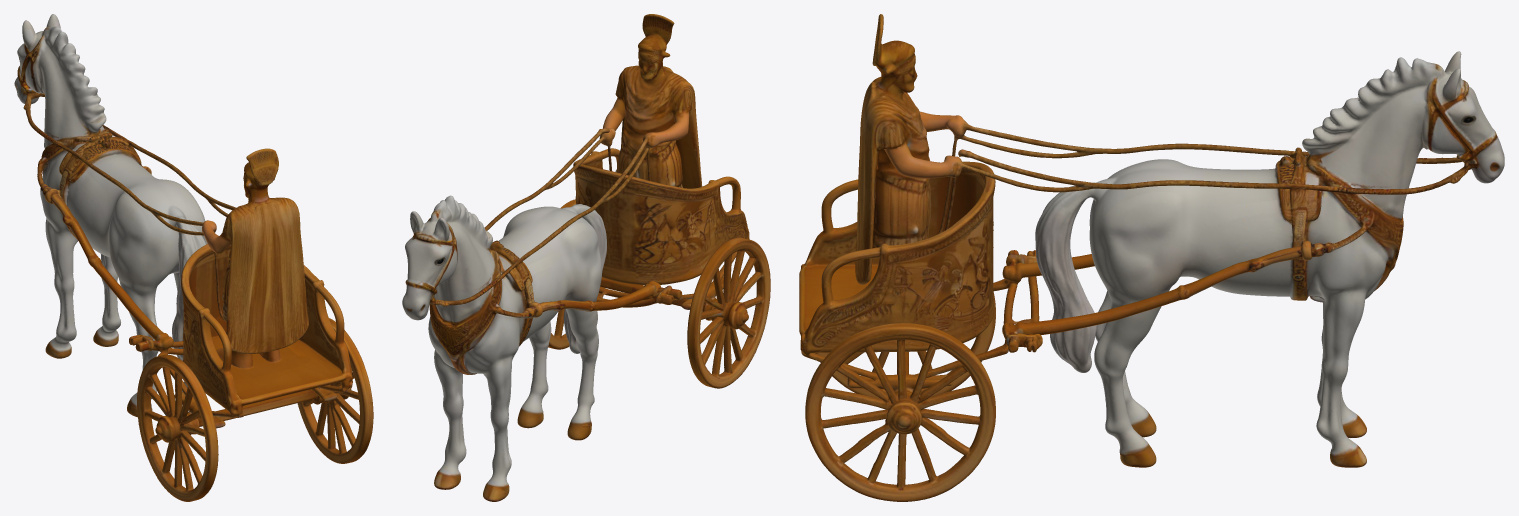
The picture shows the model from 3 angles, left to right: view 1: azimuth 30°, elevation 25°; view 2: azimuth 150°, elevation 25°; view 3: azimuth 270°, elevation 25°; orthographic projection. The views are drawn at different scales.
Parts seen in each view (by area): view 1: tripo_node_5d91c372-6149-4296-a77d-da55115b8b47; view 2: tripo_node_5d91c372-6149-4296-a77d-da55115b8b47; view 3: tripo_node_5d91c372-6149-4296-a77d-da55115b8b47.
Boxes of the visible parts, x1,y1,x2,y2 form: tripo_node_5d91c372-6149-4296-a77d-da55115b8b47: (14,14,373,501); tripo_node_5d91c372-6149-4296-a77d-da55115b8b47: (402,14,770,501); tripo_node_5d91c372-6149-4296-a77d-da55115b8b47: (799,14,1504,501).
Size of the model in its own units: 0.4133 by 0.6745 by 1.
1 material, 1 textured.
